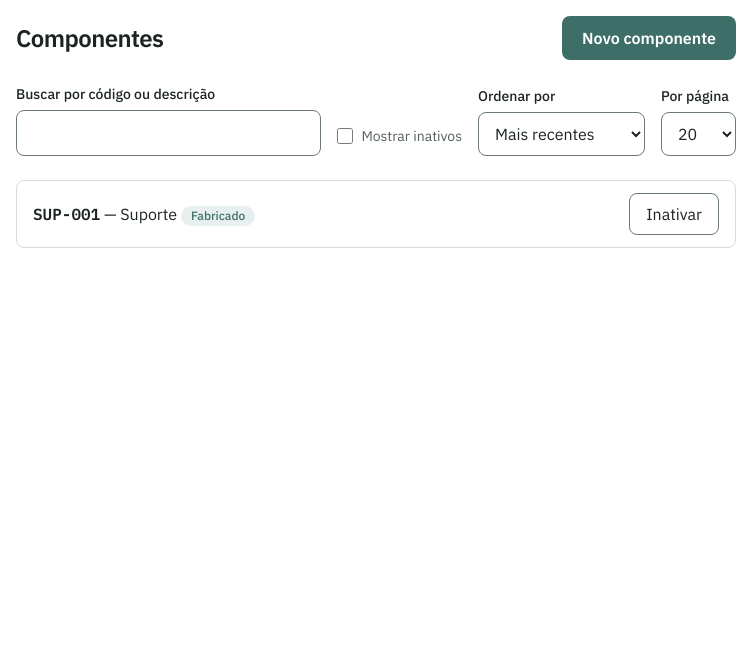
ComponentesPage › mostra mensagem de erro quando salvar falha com um erro que nao e conflito
The width and height of the screenshot is (753, 655).
Expected: the text "SUP-001" is shown, [33, 204, 100, 224]
Click the button "Novo componente" at (649, 38), box [562, 16, 736, 60]
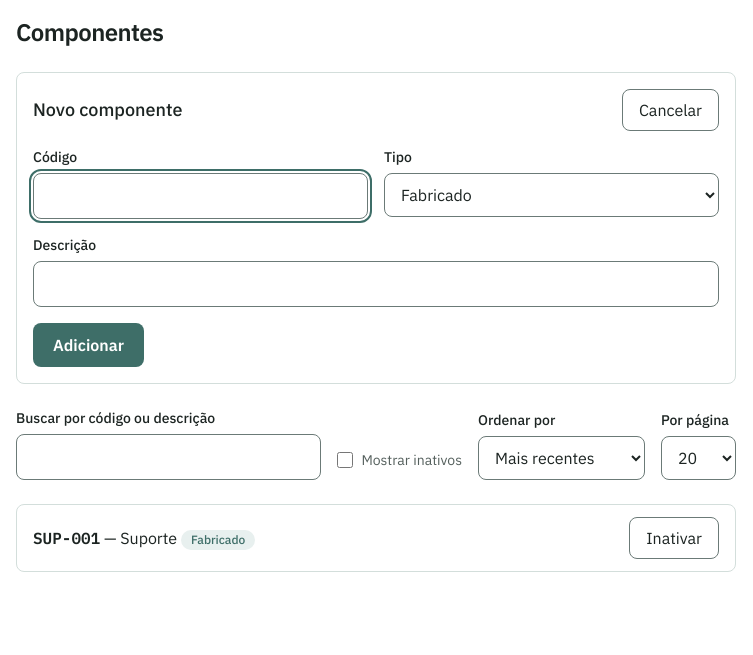
Type "NOV-001" into the field labelled "Código" at (200, 196), box [33, 173, 368, 219]
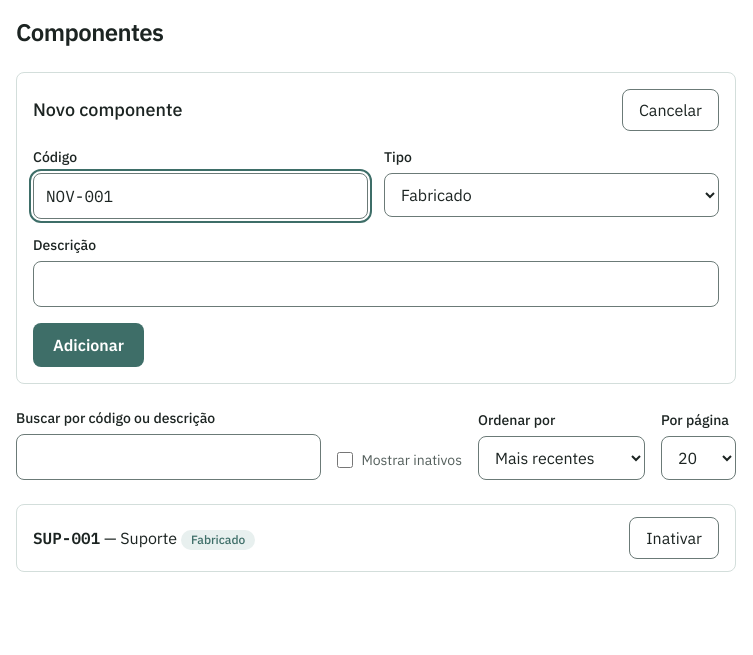
Type "Novo" into the field labelled "Descrição" at (376, 284), box [33, 261, 719, 307]
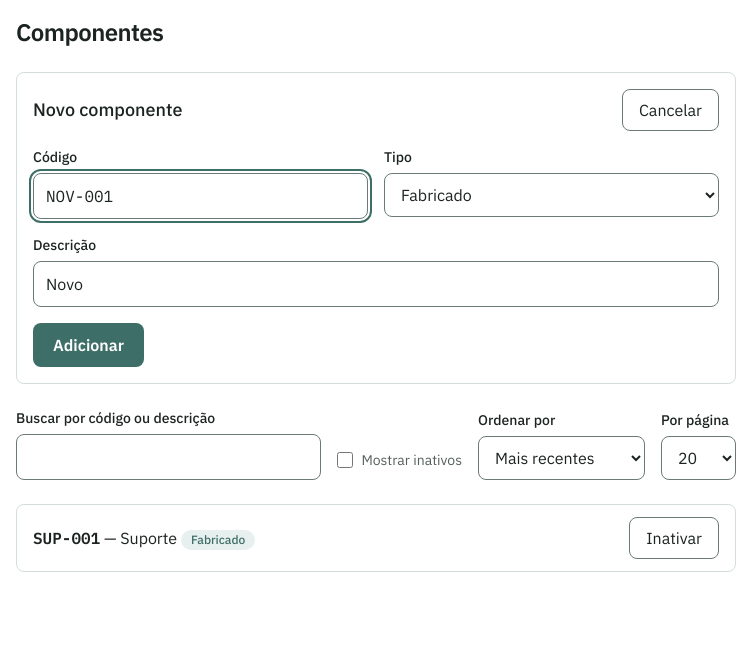
Click the button "Adicionar" at (88, 345), box [33, 323, 144, 367]
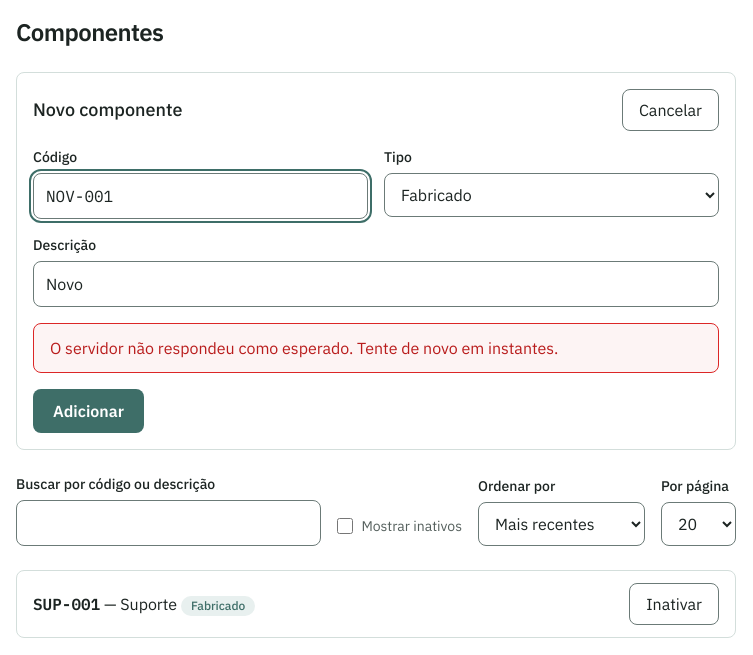
Expected: the text "O servidor não respondeu como esperado. Tente de novo em instantes." is shown, [33, 323, 719, 373]
